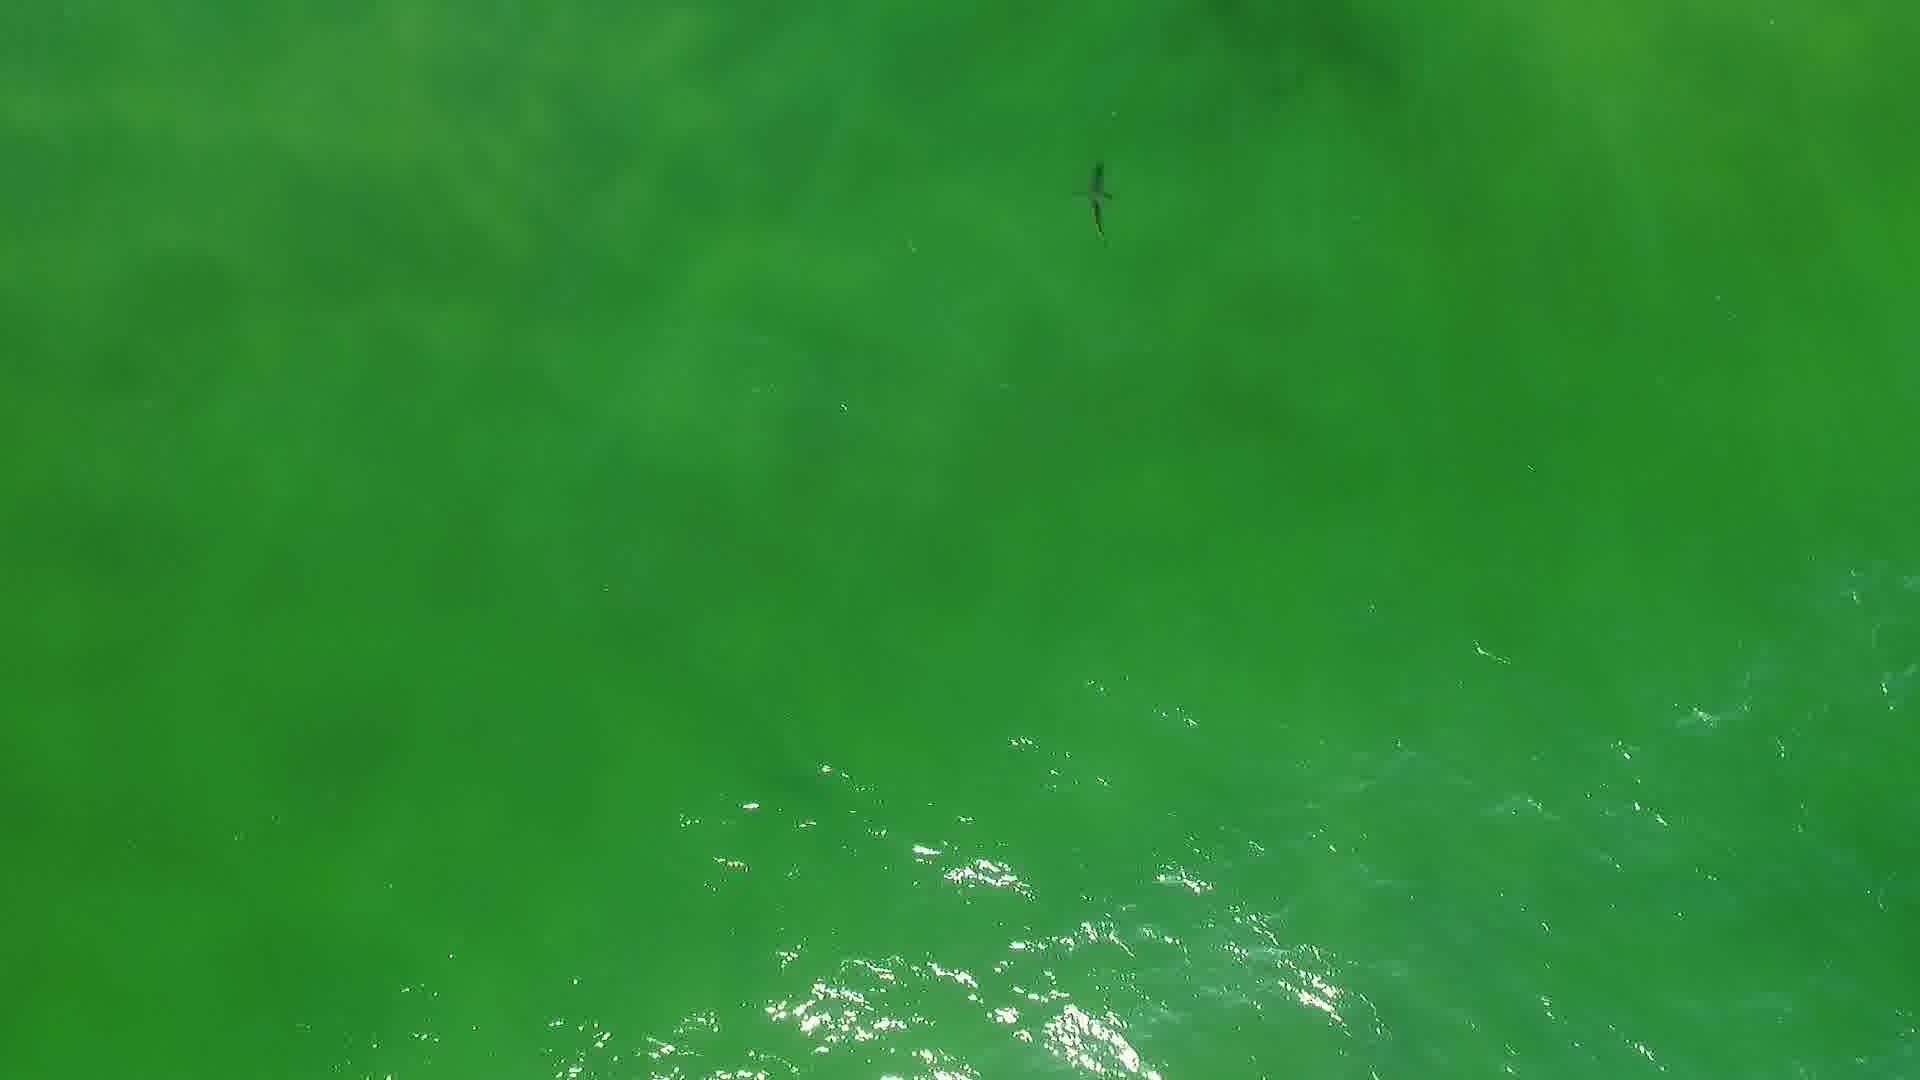shark: (1073, 160, 1117, 241)
